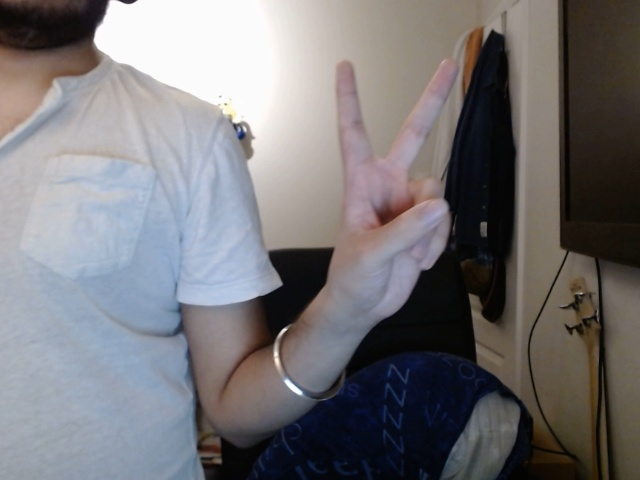Peace: (318, 52, 481, 325)
